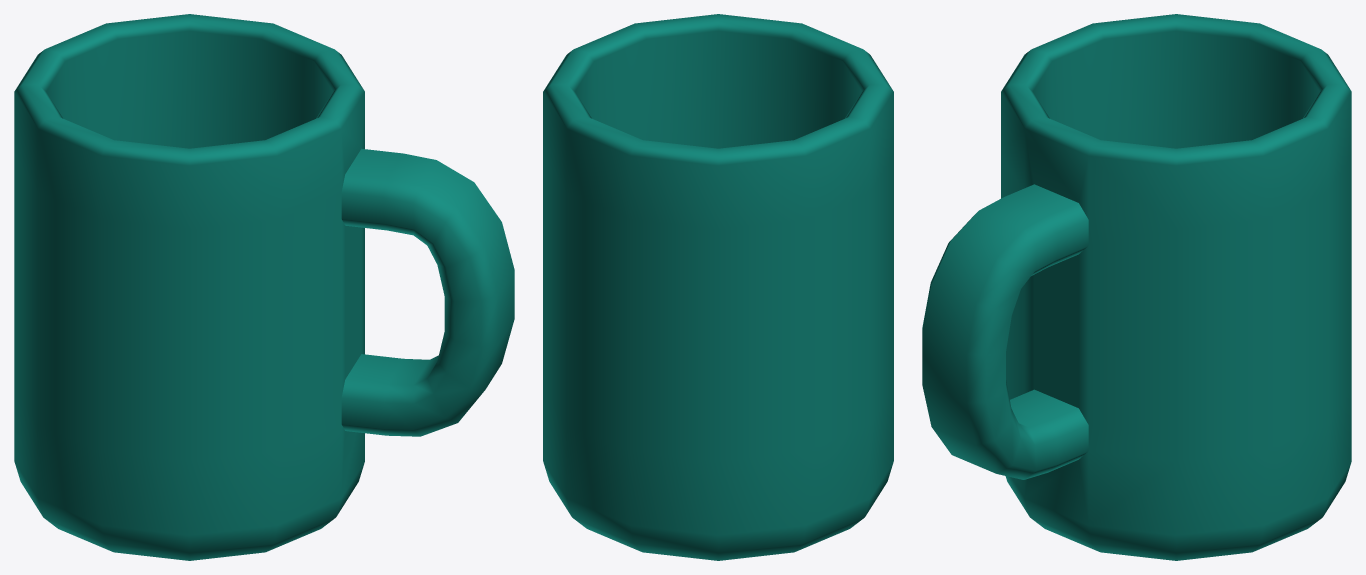
File: Mixed_CiffeeMug_02.fbx
3 renders of one model, left to right at view 1: azimuth 30°, elevation 25°; view 2: azimuth 150°, elevation 25°; view 3: azimuth 270°, elevation 25°, orthographic.
Parts seen in each view (by area): view 1: Mixed_CiffeeMug_02; view 2: Mixed_CiffeeMug_02; view 3: Mixed_CiffeeMug_02.
Part boxes in pixels (<box>): Mixed_CiffeeMug_02: <box>14,14,514,560</box>; Mixed_CiffeeMug_02: <box>543,14,893,560</box>; Mixed_CiffeeMug_02: <box>922,14,1351,560</box>.
Size of the model in its own units: 21.53 by 23.1 by 21.53.
